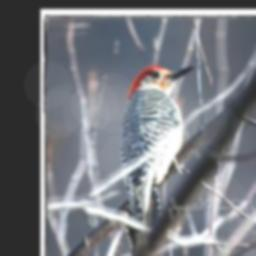Woodpecker: (116, 56, 199, 225)
